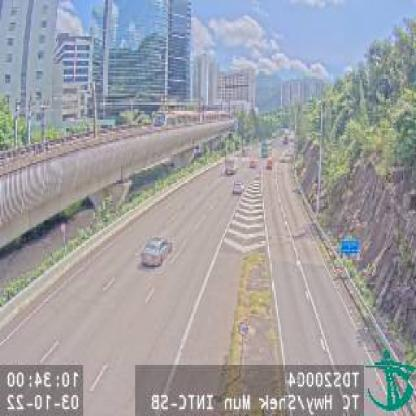Car: (140, 234, 174, 262), (232, 180, 244, 192)
